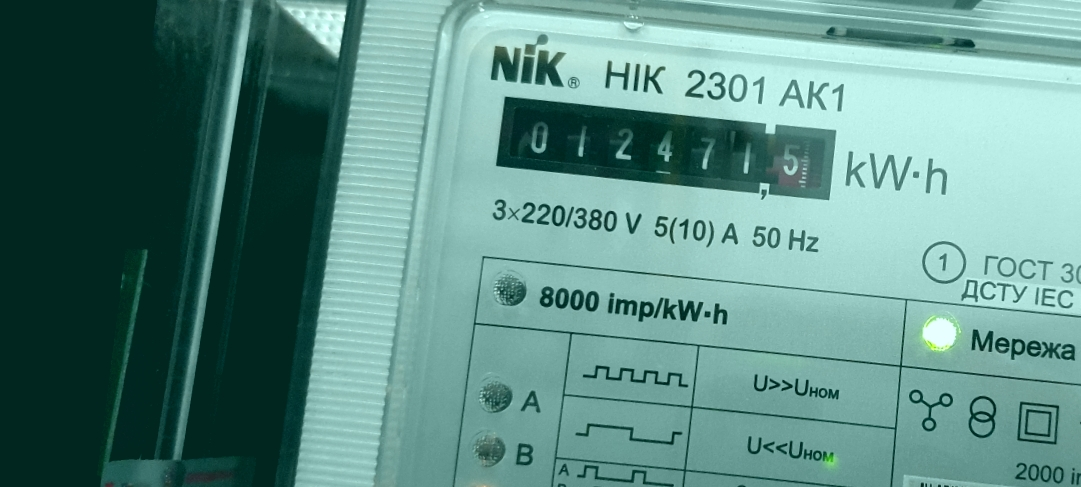0: (525, 116, 552, 155)
1: (574, 121, 590, 158), (738, 138, 754, 175)
2: (612, 124, 637, 162)
4: (654, 125, 677, 164)
5: (778, 138, 804, 178)
7: (692, 131, 718, 172)
screen: (484, 77, 851, 218)
